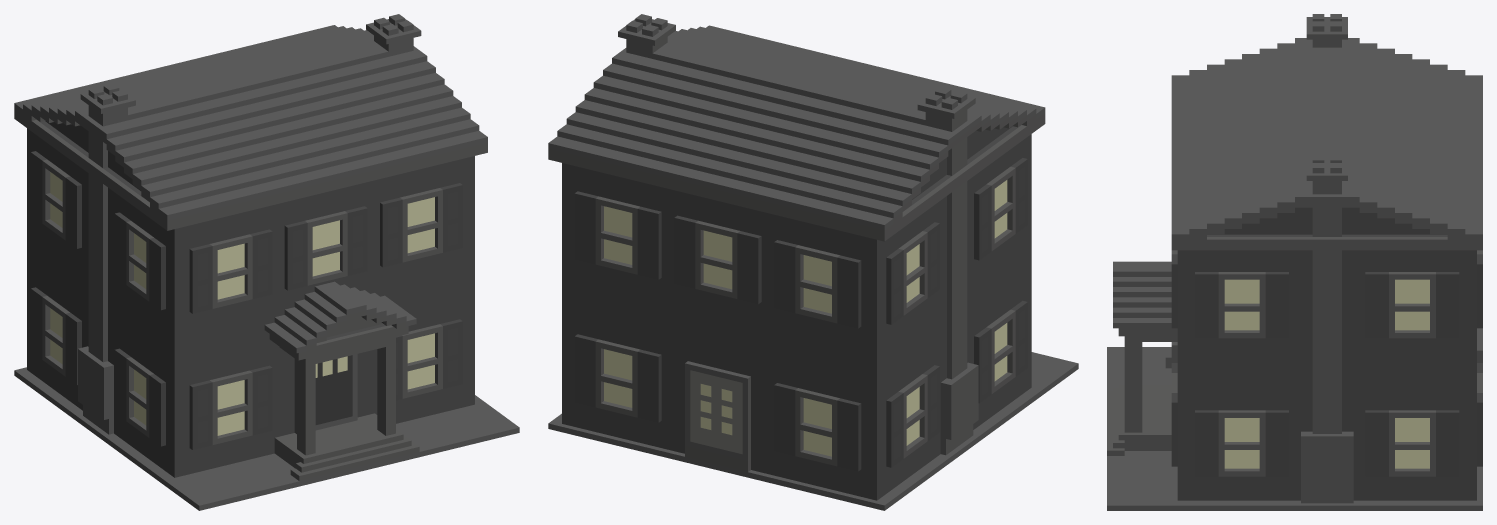
The model's file is bld_house4a.obj.
The picture shows the model from 3 angles, left to right: view 1: azimuth 30°, elevation 25°; view 2: azimuth 150°, elevation 25°; view 3: azimuth 270°, elevation 25°; orthographic projection. The views are drawn at different scales.
Size of the model in its own units: 64 by 64 by 64.
